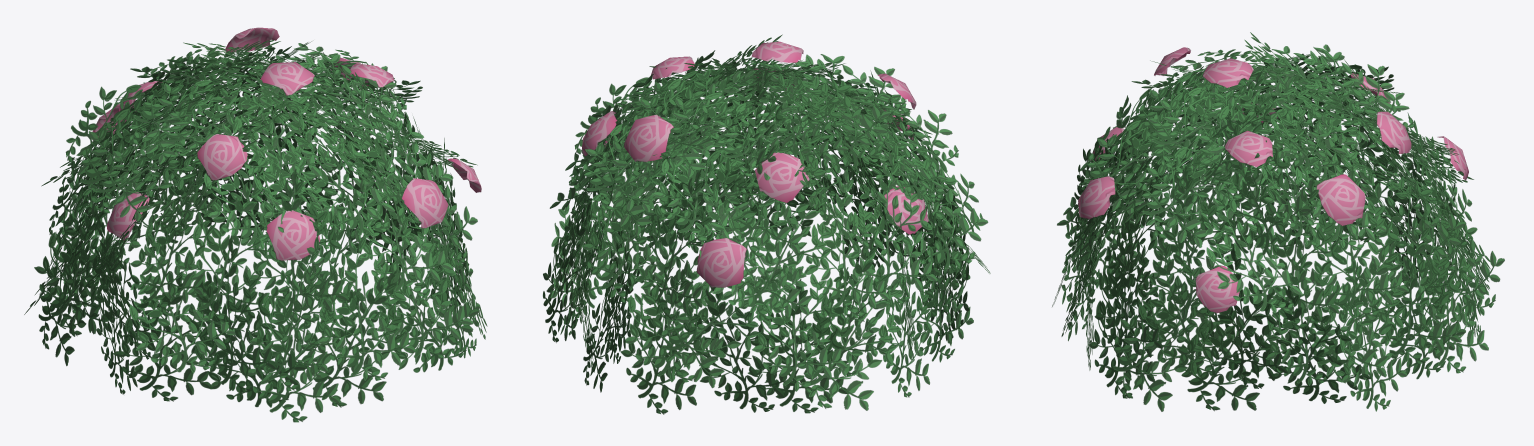
The model's file is sm__rose_bush_cao.glb.
3 renders of one model, left to right at view 1: azimuth 30°, elevation 25°; view 2: azimuth 150°, elevation 25°; view 3: azimuth 270°, elevation 25°, orthographic. The views are drawn at different scales.
Parts seen in each view (by area): view 1: SM_RoseBush_CAO_ErisVine_0, SM_RoseBush_CAO_ErisPlant_0; view 2: SM_RoseBush_CAO_ErisVine_0, SM_RoseBush_CAO_ErisPlant_0; view 3: SM_RoseBush_CAO_ErisVine_0, SM_RoseBush_CAO_ErisPlant_0.
Boxes of the visible parts, left/top/right/bottom form: SM_RoseBush_CAO_ErisVine_0: left=24, top=40, right=487, bottom=422; SM_RoseBush_CAO_ErisPlant_0: left=92, top=27, right=481, bottom=260; SM_RoseBush_CAO_ErisVine_0: left=543, top=34, right=990, bottom=414; SM_RoseBush_CAO_ErisPlant_0: left=582, top=41, right=928, bottom=287; SM_RoseBush_CAO_ErisVine_0: left=1052, top=32, right=1504, bottom=411; SM_RoseBush_CAO_ErisPlant_0: left=1078, top=47, right=1468, bottom=313.
Bounding box in the file's own units: 2.19 × 1.62 × 2.19.
Materials: 2 (2 with a texture image).
